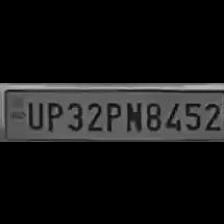2: (201, 97, 221, 130), (85, 97, 103, 130)
3: (64, 98, 82, 130)
4: (162, 97, 180, 130)
5: (181, 98, 201, 130)
8: (142, 97, 162, 130)
N: (122, 98, 142, 132)
P: (43, 97, 63, 130), (102, 97, 122, 130)
U: (23, 98, 43, 130)
